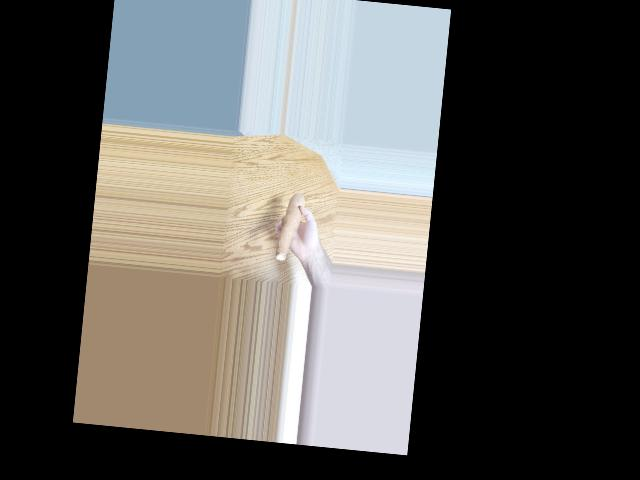sweet_potato: (276, 188, 301, 264)
